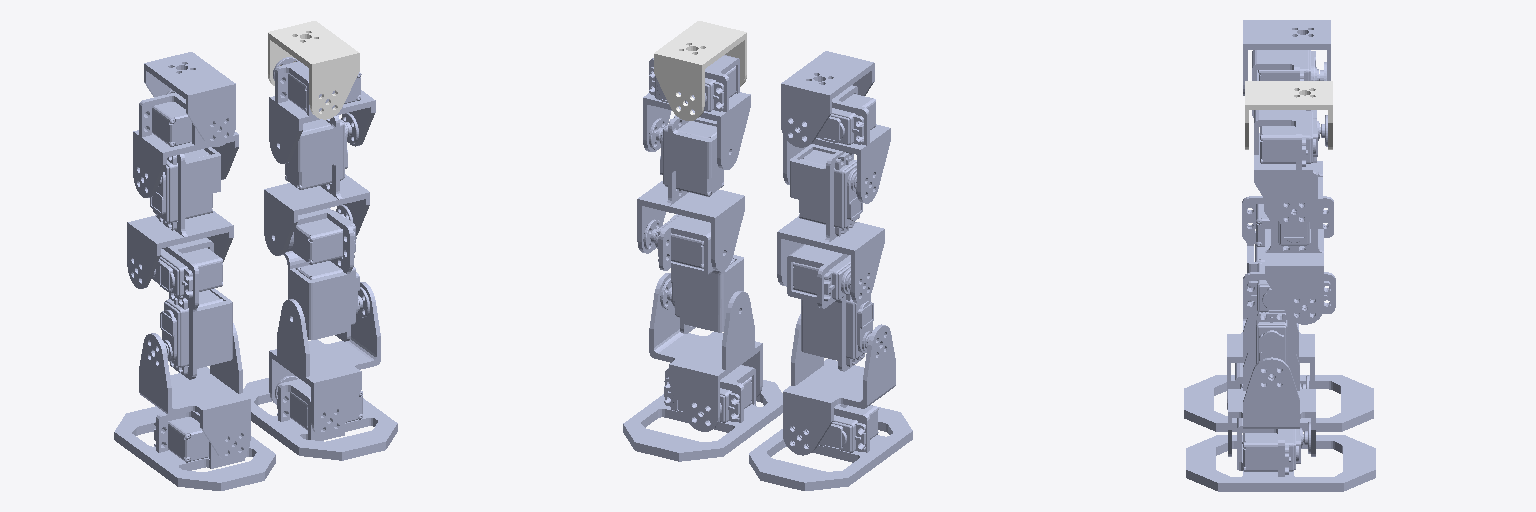
robot.urdf — test_legs_urdf:
<?xml version="1.0" encoding="utf-8"?>
<!-- This URDF was automatically created by SolidWorks to URDF Exporter! Originally created by Stephen Brawner (brawner@gmail.com) 
     Commit Version: 1.6.0-4-g7f85cfe  Build Version: 1.6.7995.38578
     For more information, please see http://wiki.ros.org/sw_urdf_exporter -->
<robot
  name="test_legs_urdf">
  <!-- <link name="world"/>
    <joint name="base_joint" type="fixed">
      <parent link="world"/>
      <child link="base_link"/>
      <origin rpy="0 0 0" xyz="0.0 0.0 0.17"/>
    </joint> -->
  <link name="base_link">
    <inertial>
      <origin
        xyz="0.0023973 -0.03 0.0"
        rpy="0 0 0" />
      <mass
        value="0.431" />
      <inertia
        ixx="0"
        ixy="0"
        ixz="0"
        iyy="0"
        iyz="0"
        izz="0" />
    </inertial>
    <visual>
      <origin
        xyz="0 0 0"
        rpy="0 0 0" />
      <geometry>
        <mesh
          filename="package://meshes/base_link.STL" />
      </geometry>
      <material
        name="">
        <color
          rgba="0.79216 0.81961 0.93333 1" />
      </material>
    </visual>
    <collision>
      <origin
        xyz="0 0 0"
        rpy="0 0 0" />
      <geometry>
        <mesh
          filename="package://meshes/base_link.STL" />
      </geometry>
    </collision>
  </link>
  <link name="RLeg">
    <inertial>
      <origin
        xyz="-0.010304 0.00087314 0.0095798"
        rpy="0 0 0" />
      <mass
        value="0.01406" />
      <inertia
        ixx="0"
        ixy="0"
        ixz="0"
        iyy="0"
        iyz="0"
        izz="0" />
    </inertial>
    <visual>
      <origin
        xyz="0 0 0"
        rpy="0 0 0" />
      <geometry>
        <mesh
          filename="package://meshes/RLeg.STL" />
      </geometry>
      <material
        name="">
        <color
          rgba="0.79216 0.81961 0.93333 1" />
      </material>
    </visual>
    <collision>
      <origin
        xyz="0 0 0"
        rpy="0 0 0" />
      <geometry>
        <mesh
          filename="package://meshes/RLeg.STL" />
      </geometry>
    </collision>
  </link>
  <joint name="RHip_yaw"
    type="revolute">
    <origin
      xyz="-0.042665 -0.0164 -0.077419"
      rpy="3.1416 0 1.5708" />
    <parent
      link="base_link" />
    <child
      link="RLeg" />
    <axis
      xyz="0 0 1" />
    <limit
      lower="-1.57"
      upper="1.57"
      effort="1.3"
      velocity="5" />
  </joint>
  <link name="RHip">
    <inertial>
      <origin
        xyz="0.0091581 -0.011371 0.0048311"
        rpy="0 0 0" />
      <mass
        value="0.076" />
      <inertia
        ixx="0"
        ixy="0"
        ixz="0"
        iyy="0"
        iyz="0"
        izz="0" />
    </inertial>
    <visual>
      <origin
        xyz="0 0 0"
        rpy="0 0 0" />
      <geometry>
        <mesh
          filename="package://meshes/RHip.STL" />
      </geometry>
      <material
        name="">
        <color
          rgba="0.79216 0.81961 0.93333 1" />
      </material>
    </visual>
    <collision>
      <origin
        xyz="0 0 0"
        rpy="0 0 0" />
      <geometry>
        <mesh
          filename="package://meshes/RHip.STL" />
      </geometry>
    </collision>
  </link>
  <joint name="RHip_roll"
    type="revolute">
    <origin
      xyz="0 0.0055 0.029"
      rpy="0 0 -1.5708" />
    <parent
      link="RLeg" />
    <child
      link="RHip" />
    <axis
      xyz="0 -1 0" />
    <limit
      lower="-1.57"
      upper="1.57"
      effort="1.3"
      velocity="5" />
  </joint>
  <link name="RFemur">
    <inertial>
      <origin
        xyz="0.0089374 0.00056334 0.018422"
        rpy="0 0 0" />
      <mass
        value="0.0839" />
      <inertia
        ixx="0"
        ixy="0"
        ixz="0"
        iyy="0"
        iyz="0"
        izz="0" />
    </inertial>
    <visual>
      <origin
        xyz="0 0 0"
        rpy="0 0 0" />
      <geometry>
        <mesh
          filename="package://meshes/RFemur.STL" />
      </geometry>
      <material
        name="">
        <color
          rgba="0.79216 0.81961 0.93333 1" />
      </material>
    </visual>
    <collision>
      <origin
        xyz="0 0 0"
        rpy="0 0 0" />
      <geometry>
        <mesh
          filename="package://meshes/RFemur.STL" />
      </geometry>
    </collision>
  </link>
  <joint name="RHip_pitch"
    type="revolute">
    <origin
      xyz="0 -0.0066192 0.039"
      rpy="0 0 0" />
    <parent
      link="RHip" />
    <child
      link="RFemur" />
    <axis
      xyz="-1 0 0" />
    <limit
      lower="-1.57"
      upper="1.57"
      effort="1.3"
      velocity="5" />
  </joint>
  <link name="RTibia">
    <inertial>
      <origin
        xyz="-0.01514 -0.021484 -0.0081987"
        rpy="0 0 0" />
      <mass
        value="0.13355" />
      <inertia
        ixx="0"
        ixy="0"
        ixz="0"
        iyy="0"
        iyz="0"
        izz="0" />
    </inertial>
    <visual>
      <origin
        xyz="0 0 0"
        rpy="0 0 0" />
      <geometry>
        <mesh
          filename="package://meshes/RTibia.STL" />
      </geometry>
      <material
        name="">
        <color
          rgba="0.79216 0.81961 0.93333 1" />
      </material>
    </visual>
    <collision>
      <origin
        xyz="0 0 0"
        rpy="0 0 0" />
      <geometry>
        <mesh
          filename="package://meshes/RTibia.STL" />
      </geometry>
    </collision>
  </link>
  <joint name="RKnee_pitch"
    type="revolute">
    <origin
      xyz="0 0.00725 0.0664"
      rpy="-1.5708 0 1.5708" />
    <parent
      link="RFemur" />
    <child
      link="RTibia" />
    <axis
      xyz="0 0 1" />
    <limit
      lower="-1.57"
      upper="1.57"
      effort="1.3"
      velocity="5" />
  </joint>
  <link name="RAnkle">
    <inertial>
      <origin
        xyz="2.1083E-11 -0.0065876 0.03259"
        rpy="0 0 0" />
      <mass
        value="0.02644" />
      <inertia
        ixx="0"
        ixy="0"
        ixz="0"
        iyy="0"
        iyz="0"
        izz="0" />
    </inertial>
    <visual>
      <origin
        xyz="0 0 0"
        rpy="0 0 0" />
      <geometry>
        <mesh
          filename="package://meshes/RAnkle.STL" />
      </geometry>
      <material
        name="">
        <color
          rgba="0.79216 0.81961 0.93333 1" />
      </material>
    </visual>
    <collision>
      <origin
        xyz="0 0 0"
        rpy="0 0 0" />
      <geometry>
        <mesh
          filename="package://meshes/RAnkle.STL" />
      </geometry>
    </collision>
  </link>
  <joint name="RAnkle_pitch"
    type="revolute">
    <origin
      xyz="-0.0209 -0.04901 0"
      rpy="1.5708 0 0" />
    <parent
      link="RTibia" />
    <child
      link="RAnkle" />
    <axis
      xyz="0 1 0" />
    <limit
      lower="-1.57"
      upper="1.57"
      effort="1.3"
      velocity="5" />
  </joint>
  <link name="RFoot">
    <inertial>
      <origin
        xyz="0.0 0.01 0.005"
        rpy="0 0 0" />
      <mass
        value="0.09345" />
      <inertia
        ixx="0"
        ixy="0"
        ixz="0"
        iyy="0"
        iyz="0"
        izz="0" />
    </inertial>
    <visual>
      <origin
        xyz="-0.125 0 0.01"
        rpy="0 0 0" />
      <geometry>
        <mesh
          filename="package://meshes/RFoot.STL" />
      </geometry>
      <material
        name="">
        <color
          rgba="0.79216 0.81961 0.93333 1" />
      </material>
    </visual>
    <collision>
      <origin
        xyz="-0.125 0 0.01"
        rpy="0 0 0" />
      <geometry>
        <mesh filename="package://meshes/RFoot.STL" />
      </geometry>
    </collision>
  </link>
  <joint name="RAnkle_roll"
    type="revolute">
    <origin
      xyz="0.0 0.0051692 0.0626"
      rpy="0 0 3.1416" />
    <parent
      link="RAnkle" />
    <child
      link="RFoot" />
    <axis
      xyz="1 0 0" />
    <limit
      lower="-1.57"
      upper="1.57"
      effort="1.3"
      velocity="5" />
  </joint>
  <link name="LLeg">
    <inertial>
      <origin
        xyz="0 0 0"
        rpy="0 0 0" />
      <mass
        value="0.01406" />
      <inertia
        ixx="0"
        ixy="0"
        ixz="0"
        iyy="0"
        iyz="0"
        izz="0" />
    </inertial>
    <visual>
      <origin
        xyz="0 0 0"
        rpy="0 0 0" />
      <geometry>
        <mesh
          filename="package://meshes/LLeg.STL" />
      </geometry>
      <material
        name="">
        <color
          rgba="1 1 1 1" />
      </material>
    </visual>
    <collision>
      <origin
        xyz="0 0 0"
        rpy="0 0 0" />
      <geometry>
        <mesh
          filename="package://meshes/LLeg.STL" />
      </geometry>
    </collision>
  </link>
  <joint name="LHip_yaw"
    type="revolute">
    <origin
      xyz="0.048335 -0.0153 -0.077419"
      rpy="3.1416 0 -1.5708" />
    <parent
      link="base_link" />
    <child
      link="LLeg" />
    <axis
      xyz="0 0 1" />
    <limit
      lower="-1.57"
      upper="1.57"
      effort="1.3"
      velocity="5" />
  </joint>
  <link name="LHip">
    <inertial>
      <origin
        xyz="-0.0048311 0.0090773 -0.011371"
        rpy="0 0 0" />
      <mass
        value="0.076" />
      <inertia
        ixx="0"
        ixy="0"
        ixz="0"
        iyy="0"
        iyz="0"
        izz="0" />
    </inertial>
    <visual>
      <origin
        xyz="0 0 0"
        rpy="0 0 0" />
      <geometry>
        <mesh
          filename="package://meshes/LHip.STL" />
      </geometry>
      <material
        name="">
        <color
          rgba="0.79216 0.81961 0.93333 1" />
      </material>
    </visual>
    <collision>
      <origin
        xyz="0 0 0"
        rpy="0 0 0" />
      <geometry>
        <mesh
          filename="package://meshes/LHip.STL" />
      </geometry>
    </collision>
  </link>
  <joint name="LHip_roll"
    type="revolute">
    <origin
      xyz="0 0.0055 0.029"
      rpy="3.1416 1.5708 0" />
    <parent
      link="LLeg" />
    <child
      link="LHip" />
    <axis
      xyz="0 0 -1" />
    <limit
      lower="-1.57"
      upper="1.57"
      effort="1.3"
      velocity="5" />
  </joint>
  <link name="LFemur">
    <inertial>
      <origin
        xyz="-0.00033744 -0.018648 -0.0087374"
        rpy="0 0 0" />
      <mass
        value="0.0839" />
      <inertia
        ixx="0"
        ixy="0"
        ixz="0"
        iyy="0"
        iyz="0"
        izz="0" />
    </inertial>
    <visual>
      <origin
        xyz="0 0 0"
        rpy="0 0 0" />
      <geometry>
        <mesh
          filename="package://meshes/LFemur.STL" />
      </geometry>
      <material
        name="">
        <color
          rgba="0.79216 0.81961 0.93333 1" />
      </material>
    </visual>
    <collision>
      <origin
        xyz="0 0 0"
        rpy="0 0 0" />
      <geometry>
        <mesh
          filename="package://meshes/LFemur.STL" />
      </geometry>
    </collision>
  </link>
  <joint name="LHip_pitch"
    type="revolute">
    <origin
      xyz="-0.039 0 -0.0066192"
      rpy="1.5708 1.5708 0" />
    <parent
      link="LHip" />
    <child
      link="LFemur" />
    <axis
      xyz="0 0 1" />
    <limit
      lower="-1.57"
      upper="1.57"
      effort="1.3"
      velocity="5" />
  </joint>
  <link name="LTibia">
    <inertial>
      <origin
        xyz="-0.021252 0.015102 0.0079987"
        rpy="0 0 0" />
      <mass
        value="0.13355" />
      <inertia
        ixx="0"
        ixy="0"
        ixz="0"
        iyy="0"
        iyz="0"
        izz="0" />
    </inertial>
    <visual>
      <origin
        xyz="0 0 0"
        rpy="0 0 0" />
      <geometry>
        <mesh
          filename="package://meshes/LTibia.STL" />
      </geometry>
      <material
        name="">
        <color
          rgba="0.79216 0.81961 0.93333 1" />
      </material>
    </visual>
    <collision>
      <origin
        xyz="0 0 0"
        rpy="0 0 0" />
      <geometry>
        <mesh
          filename="package://meshes/LTibia.STL" />
      </geometry>
    </collision>
  </link>
  <joint name="LKnee_pitch"
    type="revolute">
    <origin
      xyz="-0.00675 -0.0669 0"
      rpy="-3.1416 0 1.5708" />
    <parent
      link="LFemur" />
    <child
      link="LTibia" />
    <axis
      xyz="0 0 -1" />
    <limit
      lower="-1.57"
      upper="1.57"
      effort="1.3"
      velocity="5" />
  </joint>
  <link name="LAnkle">
    <inertial>
      <origin
        xyz="-2.1083E-11 -0.0063876 0.03259"
        rpy="0 0 0" />
      <mass
        value="0.02644" />
      <inertia
        ixx="0"
        ixy="0"
        ixz="0"
        iyy="0"
        iyz="0"
        izz="0" />
    </inertial>
    <visual>
      <origin
        xyz="0 0 0"
        rpy="0 0 0" />
      <geometry>
        <mesh
          filename="package://meshes/LAnkle.STL" />
      </geometry>
      <material
        name="">
        <color
          rgba="0.79216 0.81961 0.93333 1" />
      </material>
    </visual>
    <collision>
      <origin
        xyz="0 0 0"
        rpy="0 0 0" />
      <geometry>
        <mesh
          filename="package://meshes/LAnkle.STL" />
      </geometry>
    </collision>
  </link>
  <joint name="LAnkle_pitch"
    type="revolute">
    <origin
      xyz="-0.04856 0.02095 0"
      rpy="-1.5708 0 1.5708" />
    <parent
      link="LTibia" />
    <child
      link="LAnkle" />
    <axis
      xyz="0 1 0" />
    <limit
      lower="-1.57"
      upper="1.57"
      effort="1.3"
      velocity="5" />
  </joint>
  <link name="LFoot">
    <inertial>
      <origin
        xyz="0.00088259 0.0091453 0.0054704"
        rpy="0 0 0" />
      <mass
        value="0.09345" />
      <inertia
        ixx="0"
        ixy="0"
        ixz="0"
        iyy="0"
        iyz="0"
        izz="0" />
    </inertial>
    <visual>
      <origin
        xyz="0 0 0"
        rpy="0 0 0" />
      <geometry>
        <mesh
          filename="package://meshes/LFoot.STL" />
      </geometry>
      <material
        name="">
        <color
          rgba="0.79216 0.81961 0.93333 1" />
      </material>
    </visual>
    <collision>
      <origin
        xyz="0 0 0"
        rpy="0 0 0" />
      <geometry>
        <mesh
          filename="package://meshes/LFoot.STL" />
      </geometry>
    </collision>
  </link>
  <joint name="LAnkle_roll"
    type="revolute">
    <origin
      xyz="0 0.0049192 0.062486"
      rpy="0 0 3.1416" />
    <parent
      link="LAnkle" />
    <child
      link="LFoot" />
    <axis
      xyz="-1 0 0" />
    <limit
      lower="-1.57"
      upper="1.57"
      effort="1.3"
      velocity="5" />
  </joint>




  <!-- Using to effort interface -->
  <transmission name="LLeg_trans">
    <type>transmission_interface/SimpleTransmission</type>
    <joint name="LHip_yaw">
      <hardwareInterface>hardware_interface/EffortJointInterface</hardwareInterface>
    </joint>
    <actuator name="LHip_yaw_motor">
      <hardwareInterface>hardware_interface/EffortJointInterface</hardwareInterface>
      <mechanicalReduction>1</mechanicalReduction>
    </actuator>
  </transmission>

  <transmission name="LHip_trans">
    <type>transmission_interface/SimpleTransmission</type>
    <joint name="LHip_roll">
      <hardwareInterface>hardware_interface/EffortJointInterface</hardwareInterface>
    </joint>
    <actuator name="LHip_roll_motor">
      <hardwareInterface>hardware_interface/EffortJointInterface</hardwareInterface>
      <mechanicalReduction>1</mechanicalReduction>
    </actuator>
  </transmission>

  <transmission name="LFemur_trans">
    <type>transmission_interface/SimpleTransmission</type>
    <joint name="LHip_pitch">
      <hardwareInterface>hardware_interface/EffortJointInterface</hardwareInterface>
    </joint>
    <actuator name="LHip_pitch_motor">
      <hardwareInterface>hardware_interface/EffortJointInterface</hardwareInterface>
      <mechanicalReduction>1</mechanicalReduction>
    </actuator>
  </transmission>

  <transmission name="LTibia_trans">
    <type>transmission_interface/SimpleTransmission</type>
    <joint name="LKnee_pitch">
      <hardwareInterface>hardware_interface/EffortJointInterface</hardwareInterface>
    </joint>
    <actuator name="LKnee_pitch_motor">
      <hardwareInterface>hardware_interface/EffortJointInterface</hardwareInterface>
      <mechanicalReduction>1</mechanicalReduction>
    </actuator>
  </transmission>

  <transmission name="LAnkle_trans">
    <type>transmission_interface/SimpleTransmission</type>
    <joint name="LAnkle_pitch">
      <hardwareInterface>hardware_interface/EffortJointInterface</hardwareInterface>
    </joint>
    <actuator name="LAnkle_pitch_motor">
      <hardwareInterface>hardware_interface/EffortJointInterface</hardwareInterface>
      <mechanicalReduction>1</mechanicalReduction>
    </actuator>
  </transmission>

  <transmission name="LFoot_trans">
    <type>transmission_interface/SimpleTransmission</type>
    <joint name="LAnkle_roll">
      <hardwareInterface>hardware_interface/EffortJointInterface</hardwareInterface>
    </joint>
    <actuator name="LAnkle_roll_motor">
      <hardwareInterface>hardware_interface/EffortJointInterface</hardwareInterface>
      <mechanicalReduction>1</mechanicalReduction>
    </actuator>
  </transmission>



  <transmission name="RLeg_trans">
    <type>transmission_interface/SimpleTransmission</type>
    <joint name="RHip_yaw">
      <hardwareInterface>hardware_interface/EffortJointInterface</hardwareInterface>
    </joint>
    <actuator name="RHip_yaw_motor">
      <hardwareInterface>hardware_interface/EffortJointInterface</hardwareInterface>
      <mechanicalReduction>1</mechanicalReduction>
    </actuator>
  </transmission>

  <transmission name="RHip_trans">
    <type>transmission_interface/SimpleTransmission</type>
    <joint name="RHip_roll">
      <hardwareInterface>hardware_interface/EffortJointInterface</hardwareInterface>
    </joint>
    <actuator name="RHip_roll_motor">
      <hardwareInterface>hardware_interface/EffortJointInterface</hardwareInterface>
      <mechanicalReduction>1</mechanicalReduction>
    </actuator>
  </transmission>

  <transmission name="RFemur_trans">
    <type>transmission_interface/SimpleTransmission</type>
    <joint name="RHip_pitch">
      <hardwareInterface>hardware_interface/EffortJointInterface</hardwareInterface>
    </joint>
    <actuator name="RHip_pitch_motor">
      <hardwareInterface>hardware_interface/EffortJointInterface</hardwareInterface>
      <mechanicalReduction>1</mechanicalReduction>
    </actuator>
  </transmission>

  <transmission name="RTibia_trans">
    <type>transmission_interface/SimpleTransmission</type>
    <joint name="RKnee_pitch">
      <hardwareInterface>hardware_interface/EffortJointInterface</hardwareInterface>
    </joint>
    <actuator name="RKnee_pitch_motor">
      <hardwareInterface>hardware_interface/EffortJointInterface</hardwareInterface>
      <mechanicalReduction>1</mechanicalReduction>
    </actuator>
  </transmission>

  <transmission name="RAnkle_trans">
    <type>transmission_interface/SimpleTransmission</type>
    <joint name="RAnkle_pitch">
      <hardwareInterface>hardware_interface/EffortJointInterface</hardwareInterface>
    </joint>
    <actuator name="RAnkle_pitch_motor">
      <hardwareInterface>hardware_interface/EffortJointInterface</hardwareInterface>
      <mechanicalReduction>1</mechanicalReduction>
    </actuator>
  </transmission>

  <transmission name="RFoot_trans">
    <type>transmission_interface/SimpleTransmission</type>
    <joint name="RAnkle_roll">
      <hardwareInterface>hardware_interface/EffortJointInterface</hardwareInterface>
    </joint>
    <actuator name="RAnkle_roll_motor">
      <hardwareInterface>hardware_interface/EffortJointInterface</hardwareInterface>
      <mechanicalReduction>1</mechanicalReduction>
    </actuator>
  </transmission>


  <!--Add Gazebo Controller
  After the last transmission tag, add a gazebo controller tag as given below
  <gazebo>
  <plugin name="control"
  filename="libgazebo_ros_control.so">
  <robotNamespace>/</robotNamespace>
  </plugin>
  </gazebo>
  -->
 


   <!-- Add Self Collision tags.
  Similar to transmission tags, create the self-collision tags for each movable link in URDF. 
  <gazebo reference="link_n">
  <selfCollide>true</selfCollide>
  </gazebo>

  Note: Change “link_n” with the name of the link.

  -->


  


</robot>

--- What the picture shows (computed from the rendered views, not written in the file) ---
Views: 3 orthographic renders of the robot side by side, from view 1: azimuth 30°, elevation 25°; view 2: azimuth 150°, elevation 25°; view 3: azimuth 270°, elevation 25°.
Robot: test_legs_urdf — 13 links, 12 joints (12 revolute); root link base_link; default pose: all joints at 0.
Links seen in each view (by area): view 1: LAnkle, RTibia, LTibia, RFemur, LFemur, RAnkle, RFoot, LFoot, LLeg, RHip, RLeg, LHip; view 2: RFemur, LFemur, LAnkle, RAnkle, RTibia, RFoot, LTibia, LFoot, LLeg, RLeg, RHip, LHip; view 3: LFoot, LHip, LFemur, LAnkle, RFoot, LTibia, RLeg, LLeg, RHip, RTibia, RAnkle.
Link boxes in pixels (x1=…): LAnkle: x1=269, y1=282, x2=380, y2=437; RTibia: x1=152, y1=238, x2=232, y2=379; LTibia: x1=283, y1=205, x2=369, y2=341; RFemur: x1=127, y1=147, x2=233, y2=288; LFemur: x1=264, y1=113, x2=369, y2=255; RAnkle: x1=139, y1=323, x2=250, y2=461; RFoot: x1=114, y1=406, x2=275, y2=490; LFoot: x1=243, y1=376, x2=397, y2=460; LLeg: x1=268, y1=21, x2=359, y2=119; RHip: x1=133, y1=89, x2=238, y2=197; RLeg: x1=144, y1=52, x2=235, y2=146; LHip: x1=269, y1=57, x2=375, y2=163; RFemur: x1=777, y1=144, x2=884, y2=304; LFemur: x1=637, y1=115, x2=744, y2=271; LAnkle: x1=649, y1=273, x2=762, y2=431; RAnkle: x1=783, y1=314, x2=895, y2=455; RTibia: x1=787, y1=244, x2=873, y2=371; RFoot: x1=749, y1=404, x2=912, y2=490; LTibia: x1=643, y1=214, x2=743, y2=333; LFoot: x1=623, y1=365, x2=782, y2=461; LLeg: x1=654, y1=21, x2=746, y2=120; RLeg: x1=781, y1=51, x2=874, y2=147; RHip: x1=783, y1=85, x2=890, y2=203; LHip: x1=643, y1=55, x2=750, y2=169; LFoot: x1=1186, y1=418, x2=1375, y2=491; LHip: x1=1254, y1=110, x2=1327, y2=228; LFemur: x1=1265, y1=163, x2=1323, y2=324; LAnkle: x1=1228, y1=353, x2=1315, y2=456; RFoot: x1=1184, y1=363, x2=1373, y2=431; LTibia: x1=1243, y1=263, x2=1335, y2=384; RLeg: x1=1243, y1=20, x2=1330, y2=95; LLeg: x1=1245, y1=81, x2=1332, y2=149; RHip: x1=1252, y1=50, x2=1326, y2=126; RTibia: x1=1242, y1=196, x2=1333, y2=301; RAnkle: x1=1227, y1=313, x2=1314, y2=409.
Bounding box of the posed robot: 0.1615 × 0.1212 × 0.262 m (x, y, z).
12 mesh visuals loaded from 13 distinct referenced files (12 binary STL); not drawn: 1 (reference not matched to a file when rendering).
